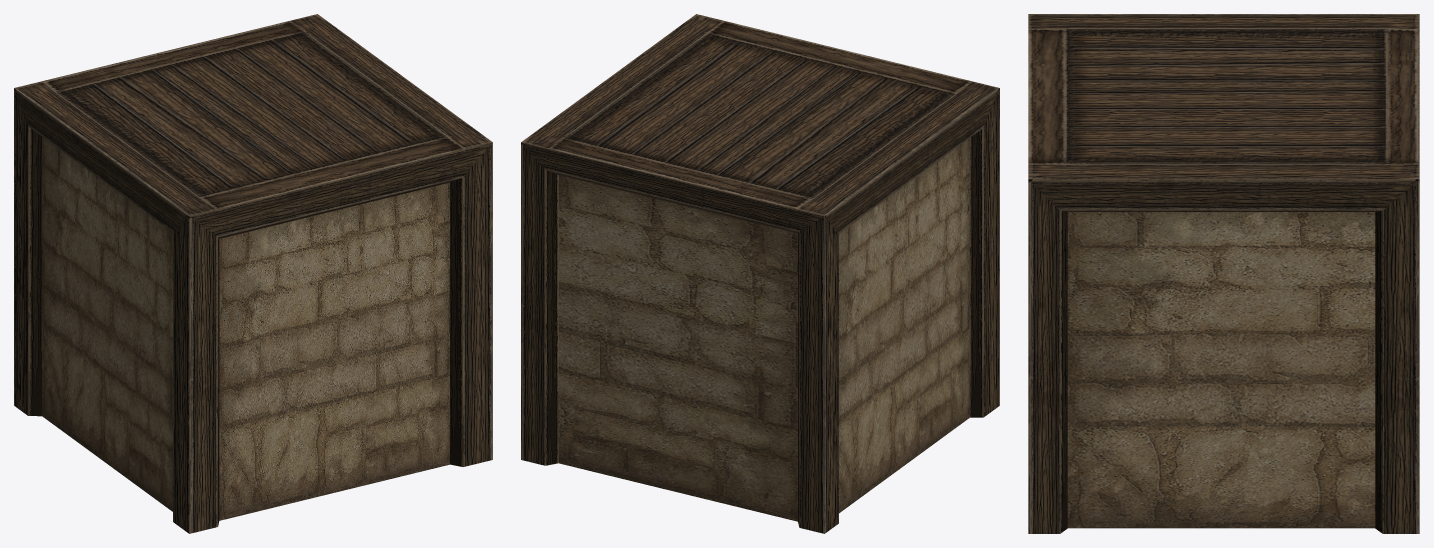
Rendered from House_4X4_04b.fbx.
3 renders of one model, left to right at view 1: azimuth 30°, elevation 25°; view 2: azimuth 150°, elevation 25°; view 3: azimuth 270°, elevation 25°, orthographic. The views are drawn at different scales.
Visible parts, largest first — view 1: House_4X4_04b; view 2: House_4X4_04b; view 3: House_4X4_04b.
Part boxes in pixels (box(x1,y1,x2,y2)): House_4X4_04b: box(14, 14, 492, 533); House_4X4_04b: box(521, 14, 999, 533); House_4X4_04b: box(1028, 14, 1419, 533).
Size of the model in its own units: 4 by 4 by 4.
